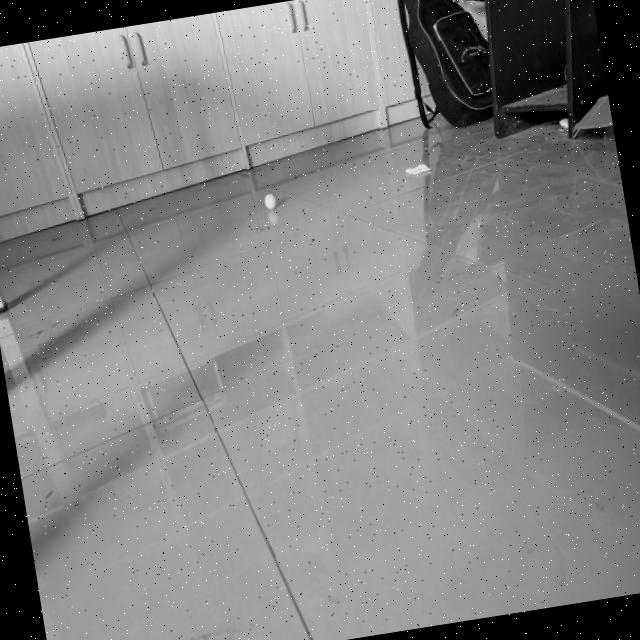ping-pong-ball: (264, 192, 278, 210)
